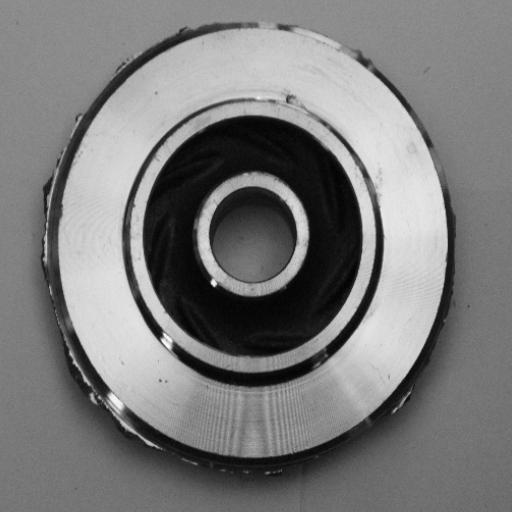casting_with_burr: (37, 16, 460, 482)
crack: (252, 86, 324, 125)
scratch: (145, 319, 193, 371)
